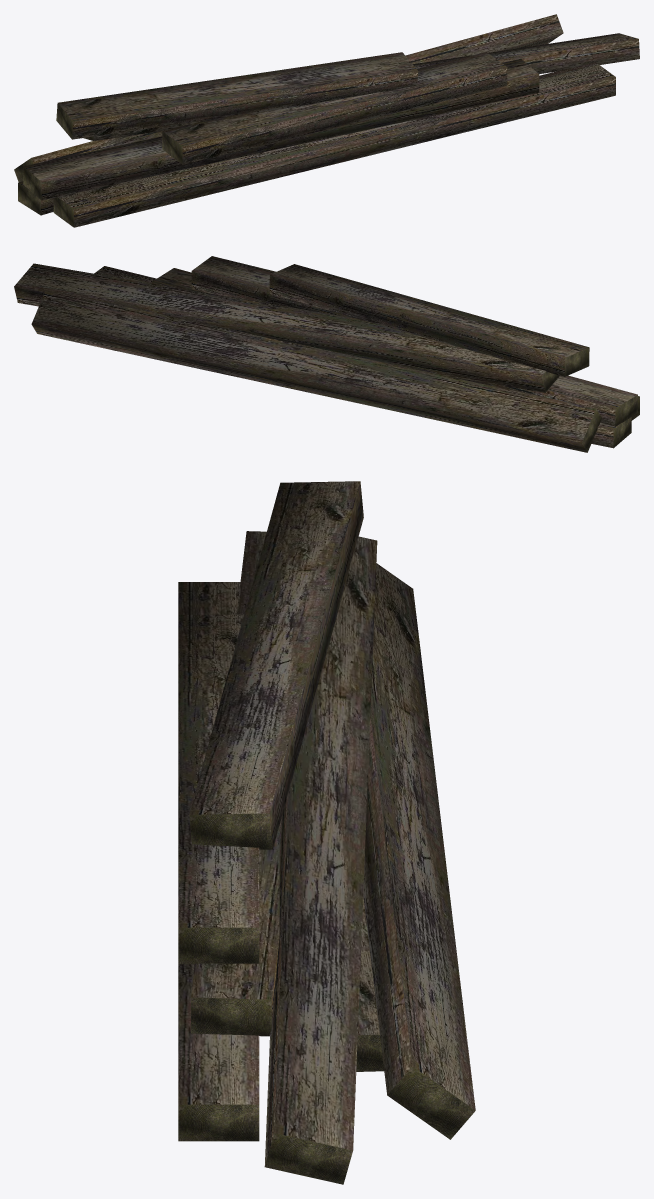
The model's file is NW_MISC_BOARDS_01B.glb.
3 views of the same model, one above another, from view 1: azimuth 30°, elevation 25°; view 2: azimuth 150°, elevation 25°; view 3: azimuth 270°, elevation 25° (orthographic). The views are drawn at different scales.
Parts seen in each view (by area): view 1: Mesh; view 2: Mesh; view 3: Mesh.
Boxes of the visible parts, x1,y1,x2,y2 form: Mesh: (14,14,639,227); Mesh: (14,256,639,452); Mesh: (178,481,475,1184).
Size of the model in its own units: 4.09 by 0.5429 by 0.8814.
2 materials, 2 textured.
